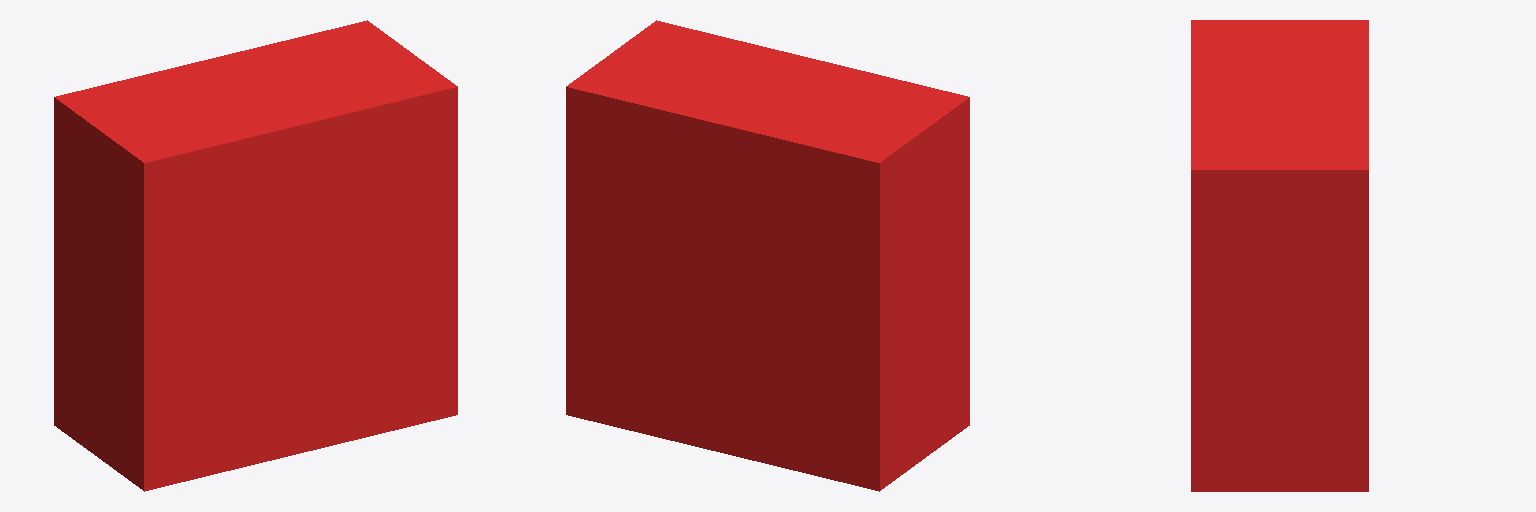
URDF robot description (enclosure wall):
<?xml version="1.0"?>
<robot name="enclosure wall">
    <!-- Colors -->
    <material name="red">
        <color rgba="0.941 0.204 0.204 1"/>
    </material>

    <!-- Wall -->
    <link name="base_link">
        <visual>
            <geometry>
                <box size="1 0.5 1" />
                <origin rpy="0 0 0" xyz="0 0 0"/>
            </geometry>
            <material name="red"/>
        </visual>

        <collision>
             <geometry>
                <box size="1 0.5 1" />
                <origin rpy="0 0 0" xyz="0 0 0"/>
            </geometry>
        </collision>
        <inertial>
            <mass value="0"/>
            <inertia ixx="0" ixy="0" ixz="0" iyy="0" iyz="0" izz="0"/>
        </inertial>
    </link>
</robot>

--- Render facts (derived) ---
3 views of the same robot in one strip: view 1: azimuth 30°, elevation 25°; view 2: azimuth 150°, elevation 25°; view 3: azimuth 270°, elevation 25° (orthographic).
Model enclosure wall with 1 links and 0 joints (none), rooted at base_link, posed all joints at 0.
Links seen in each view (by area): view 1: base_link; view 2: base_link; view 3: base_link.
Link boxes in pixels (x1,y1,x2,y2): base_link: [54, 20, 457, 491]; base_link: [566, 20, 969, 491]; base_link: [1191, 20, 1368, 491].
Bounding box of the posed robot: 1 × 0.5 × 1 m (x, y, z).
Geometry: primitives only (box / cylinder / sphere), no mesh files.